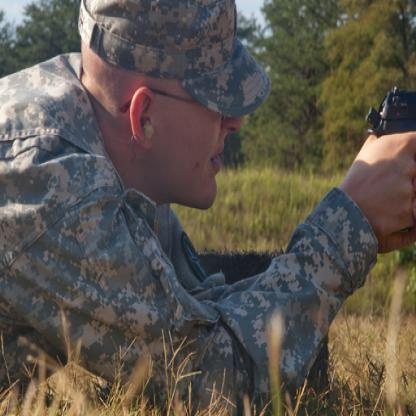gun: (366, 80, 415, 235)
